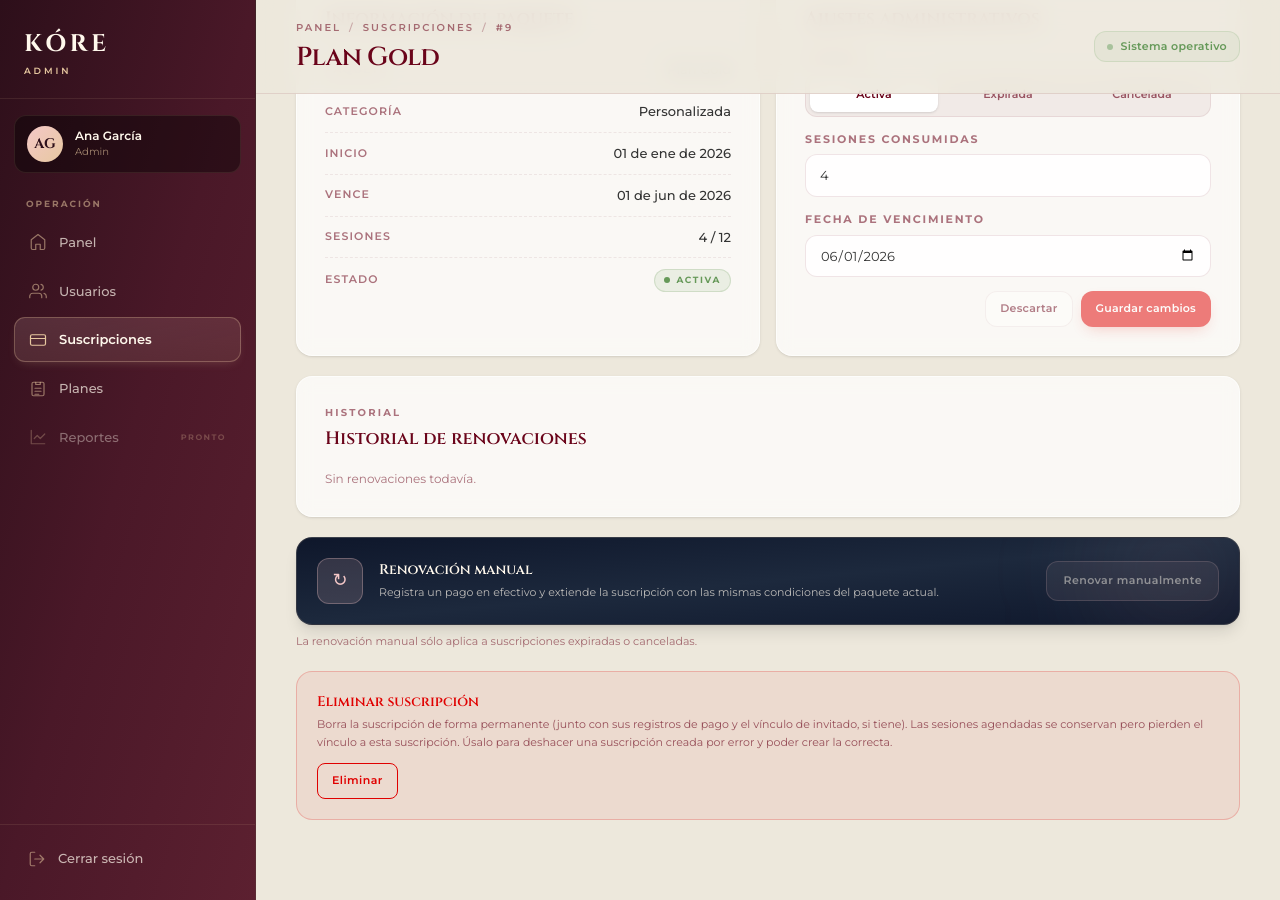
AdminSubscriptionDetailPage › opens the delete confirmation modal when the delete action is clicked
(page scrolled)
Click the button "Eliminar" at (357, 781), box [317,764,398,799]
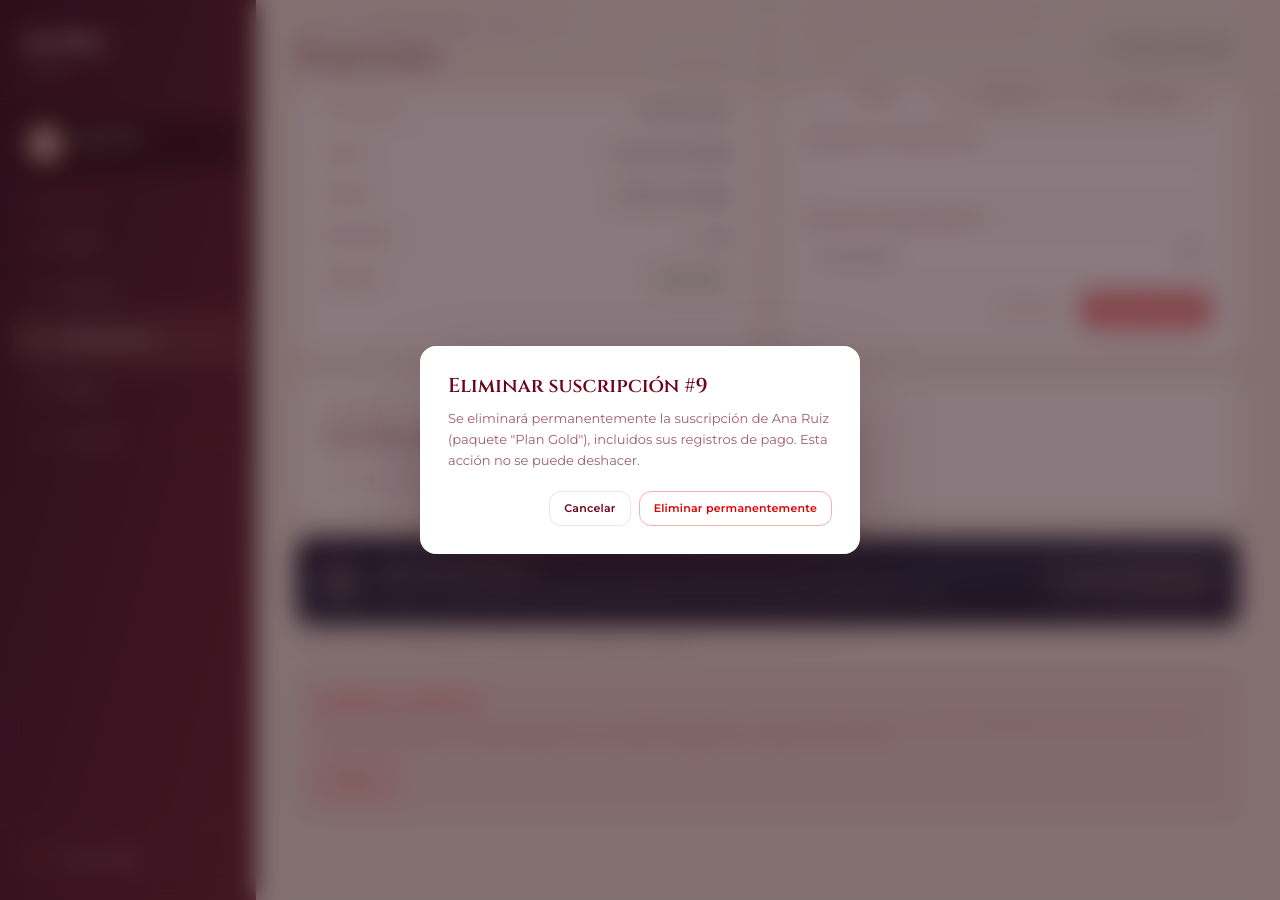
Now the heading "Eliminar suscripción #9" is shown, box [448,372,708,398]
